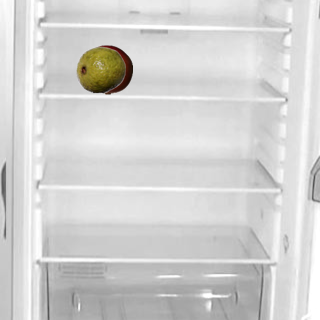Apple Braeburn: (82, 44, 132, 94)
Guava: (75, 44, 125, 94)
